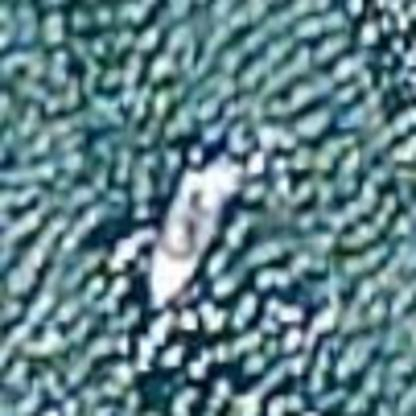ship: (131, 143, 259, 316)
